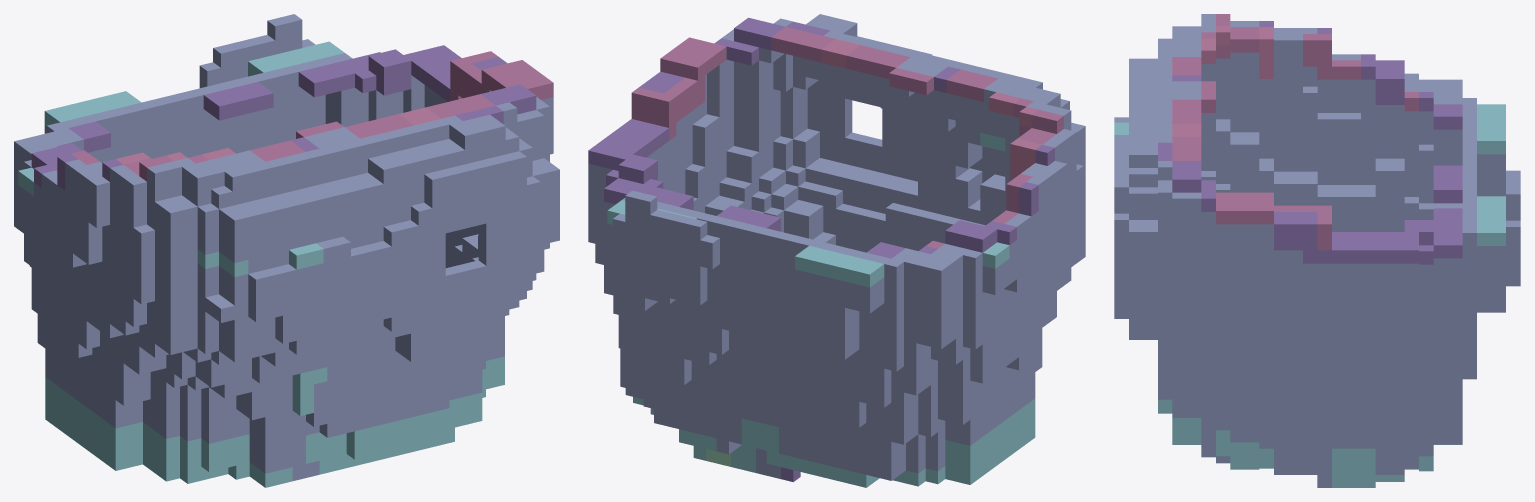
3 renders of one model, left to right at view 1: azimuth 30°, elevation 25°; view 2: azimuth 150°, elevation 25°; view 3: azimuth 270°, elevation 25°, orthographic. The views are drawn at different scales.
Size of the model in its own units: 1.6 by 1.25 by 1.4.
